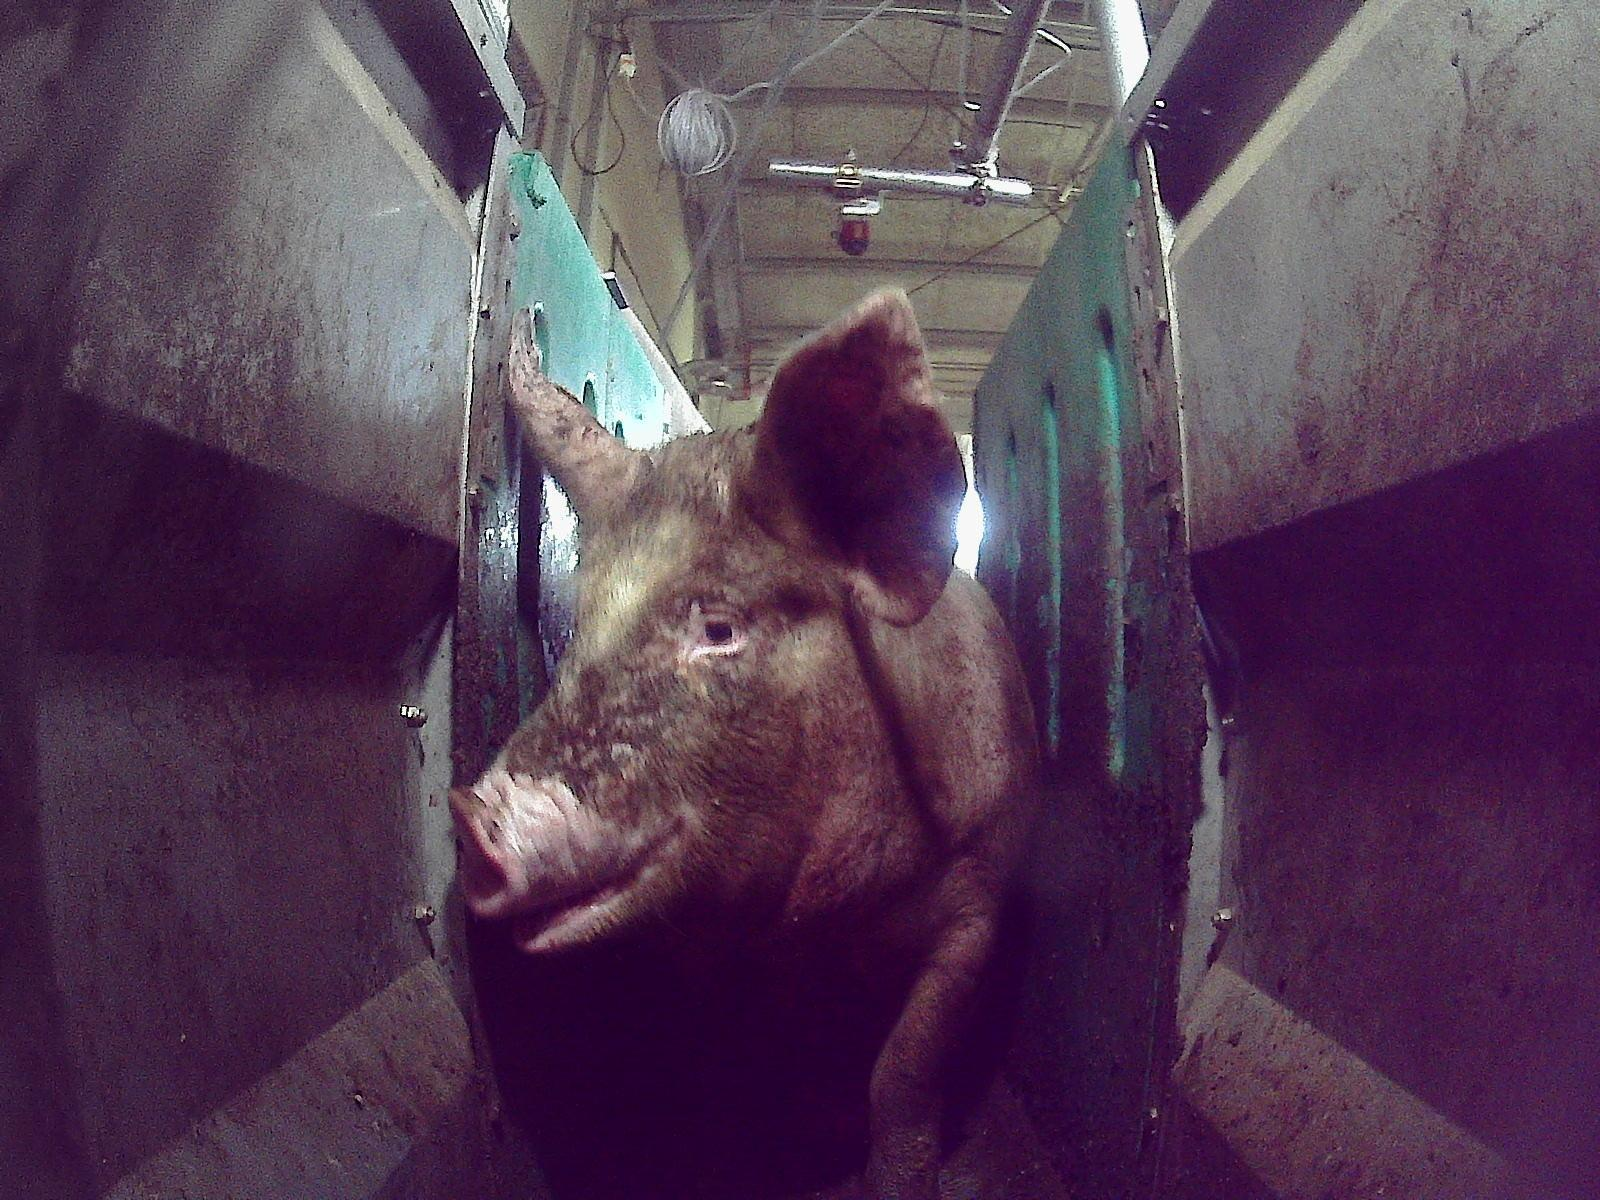Face: (444, 439, 929, 950)
